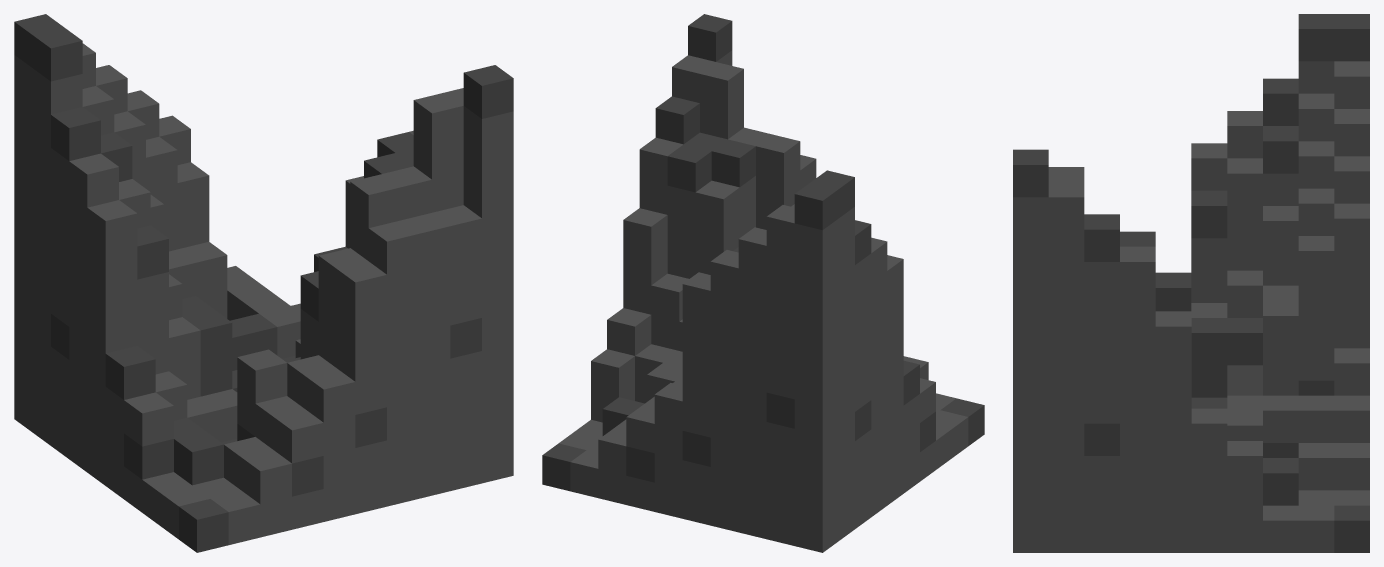
The model's file is Ganz-Koisches-Eck-1.obj.
3 views of the same model, side by side, from view 1: azimuth 30°, elevation 25°; view 2: azimuth 150°, elevation 25°; view 3: azimuth 270°, elevation 25° (orthographic). The views are drawn at different scales.
Size of the model in its own units: 1 by 1.2 by 1.
Materials: 1 (1 with a texture image).
